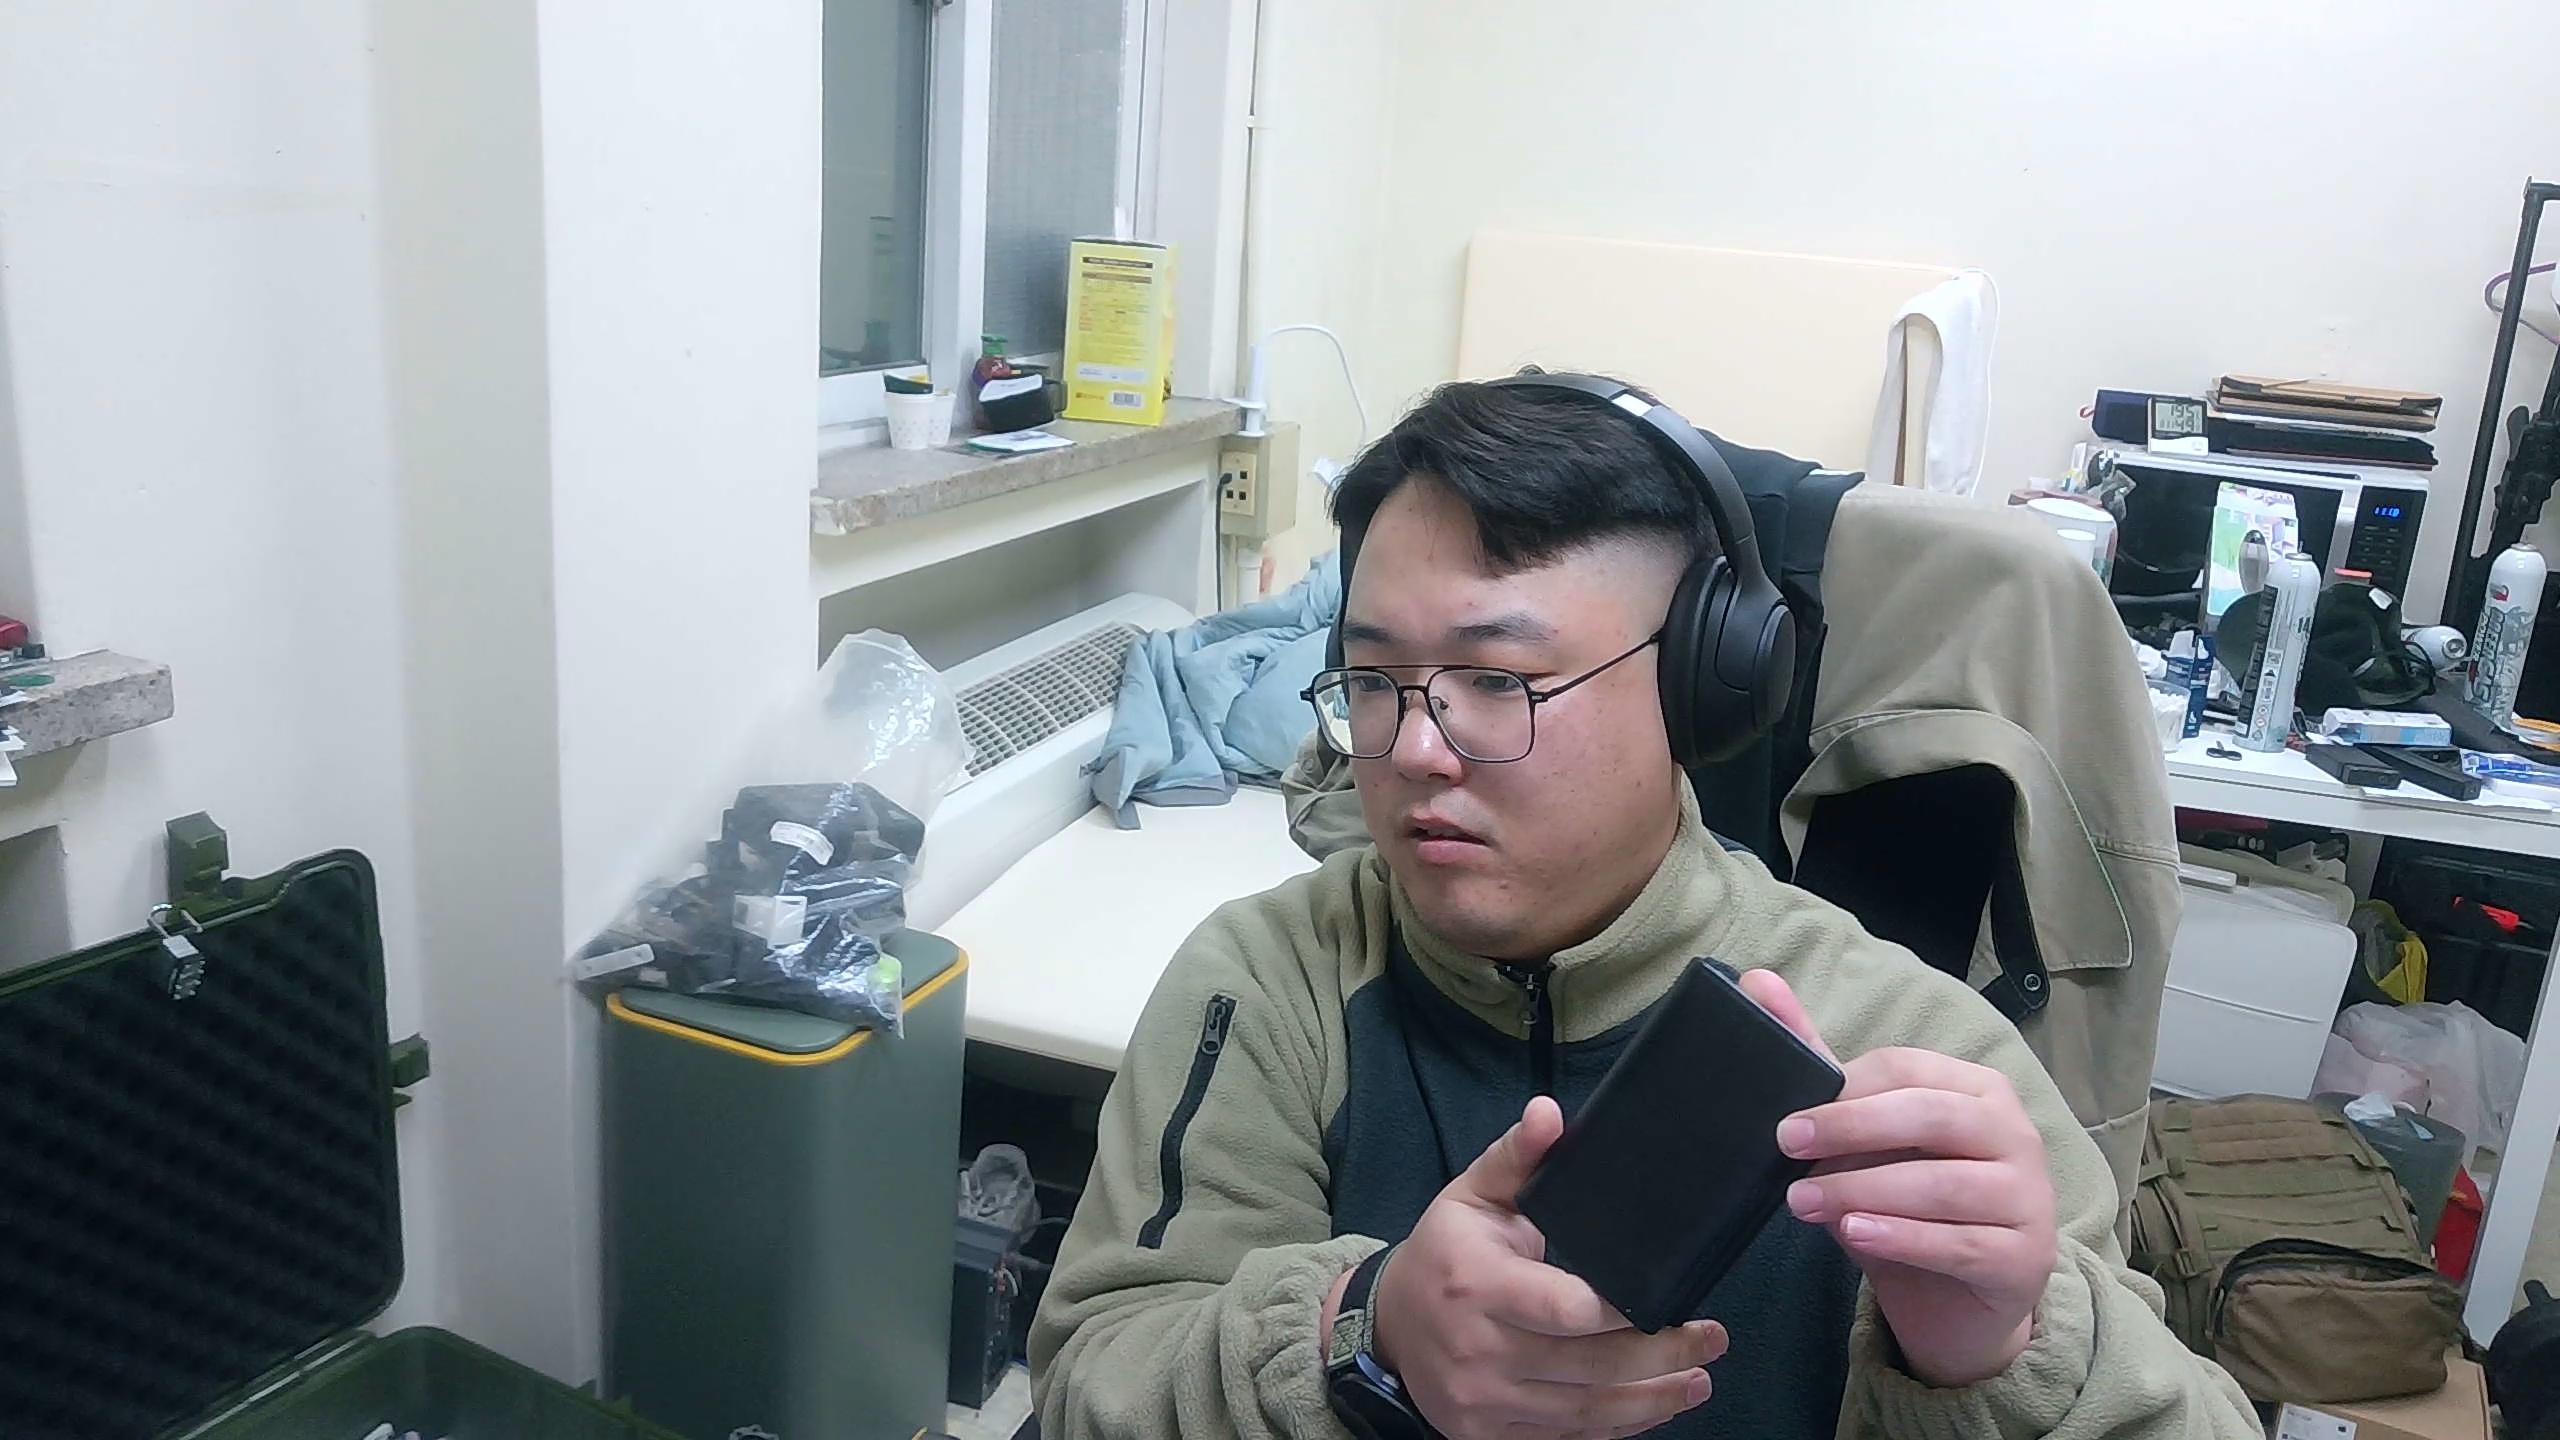Wallet: (1514, 953, 1851, 1340)
